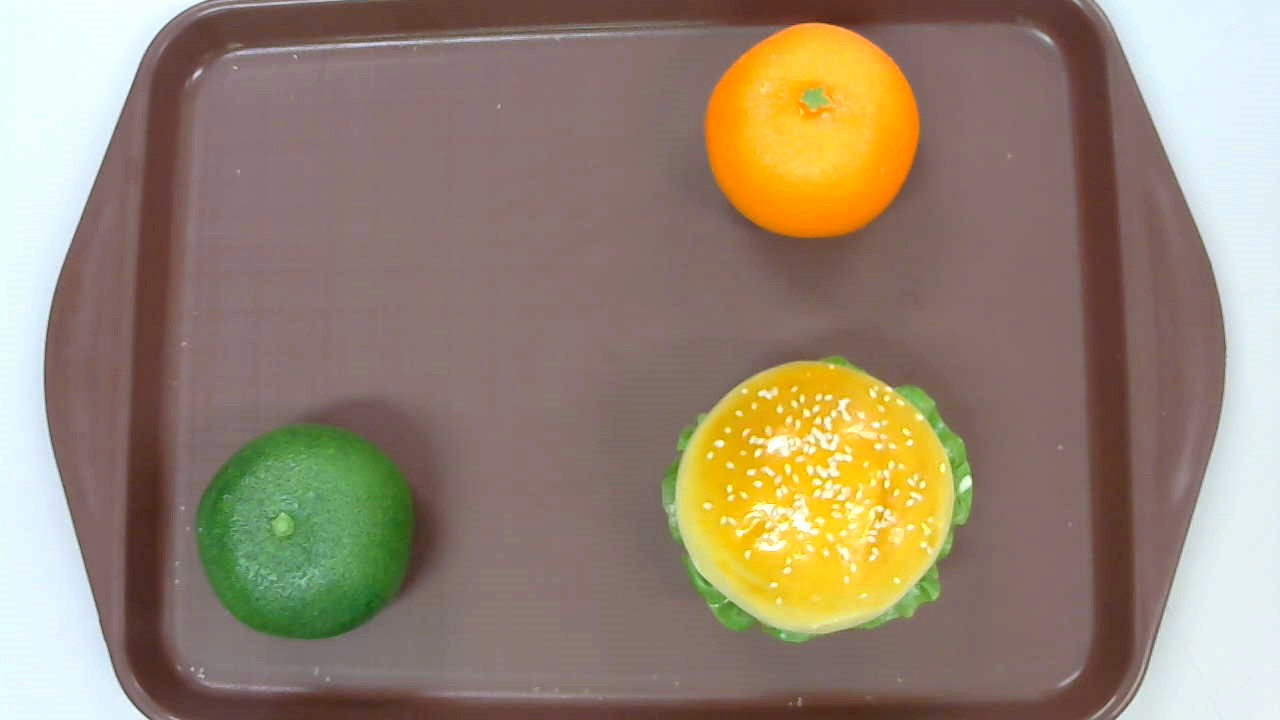green orange: (195, 422, 418, 639)
hamburger: (662, 354, 972, 644)
orange: (705, 22, 921, 242)
